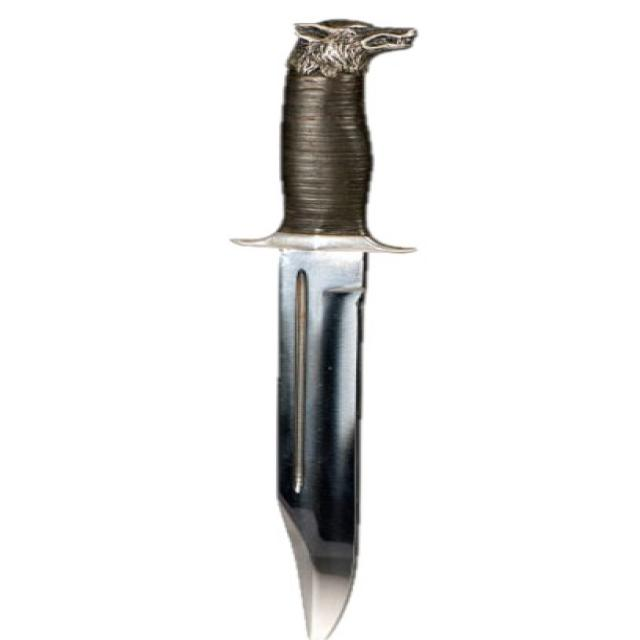knife: (245, 12, 439, 640)
